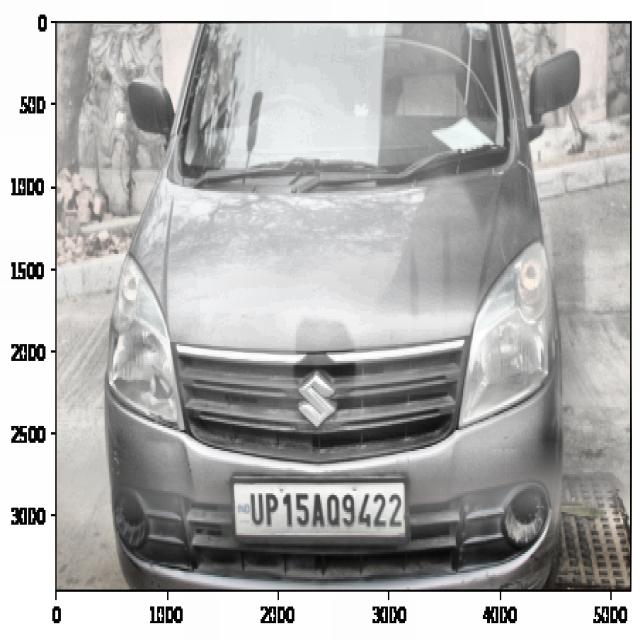license_plate: (240, 480, 407, 534)
